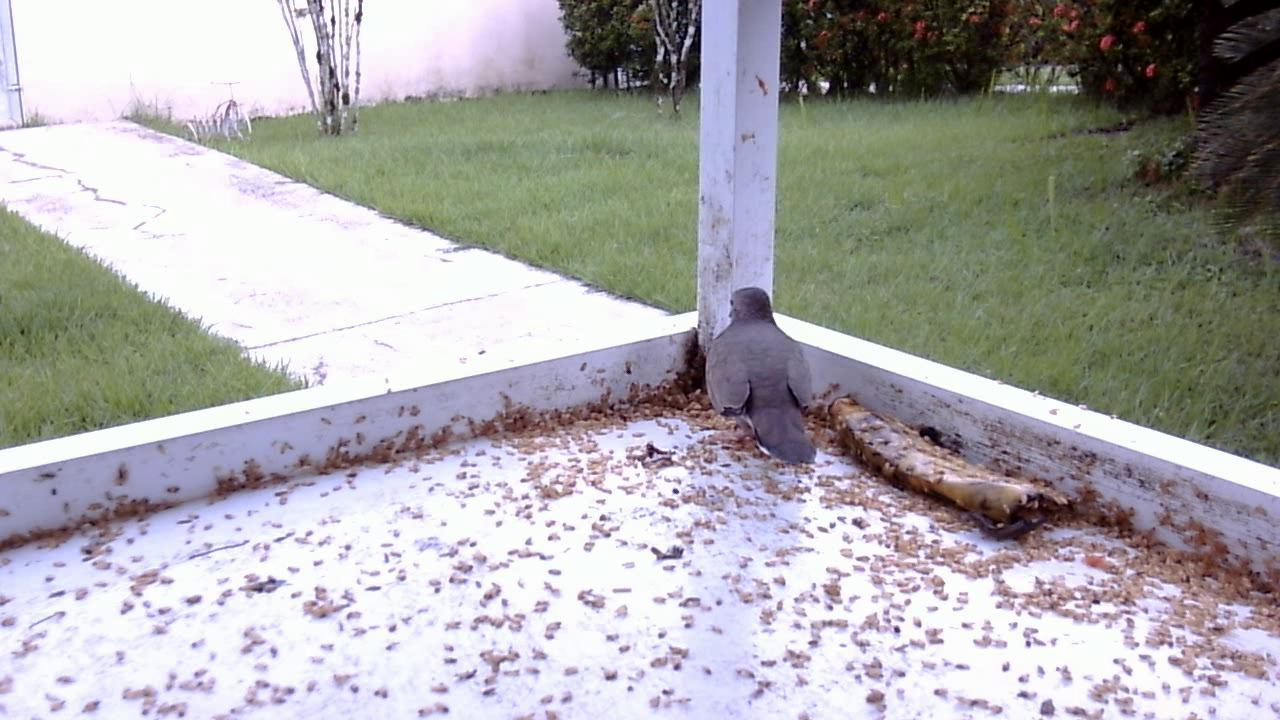rolinha: (701, 280, 822, 458)
